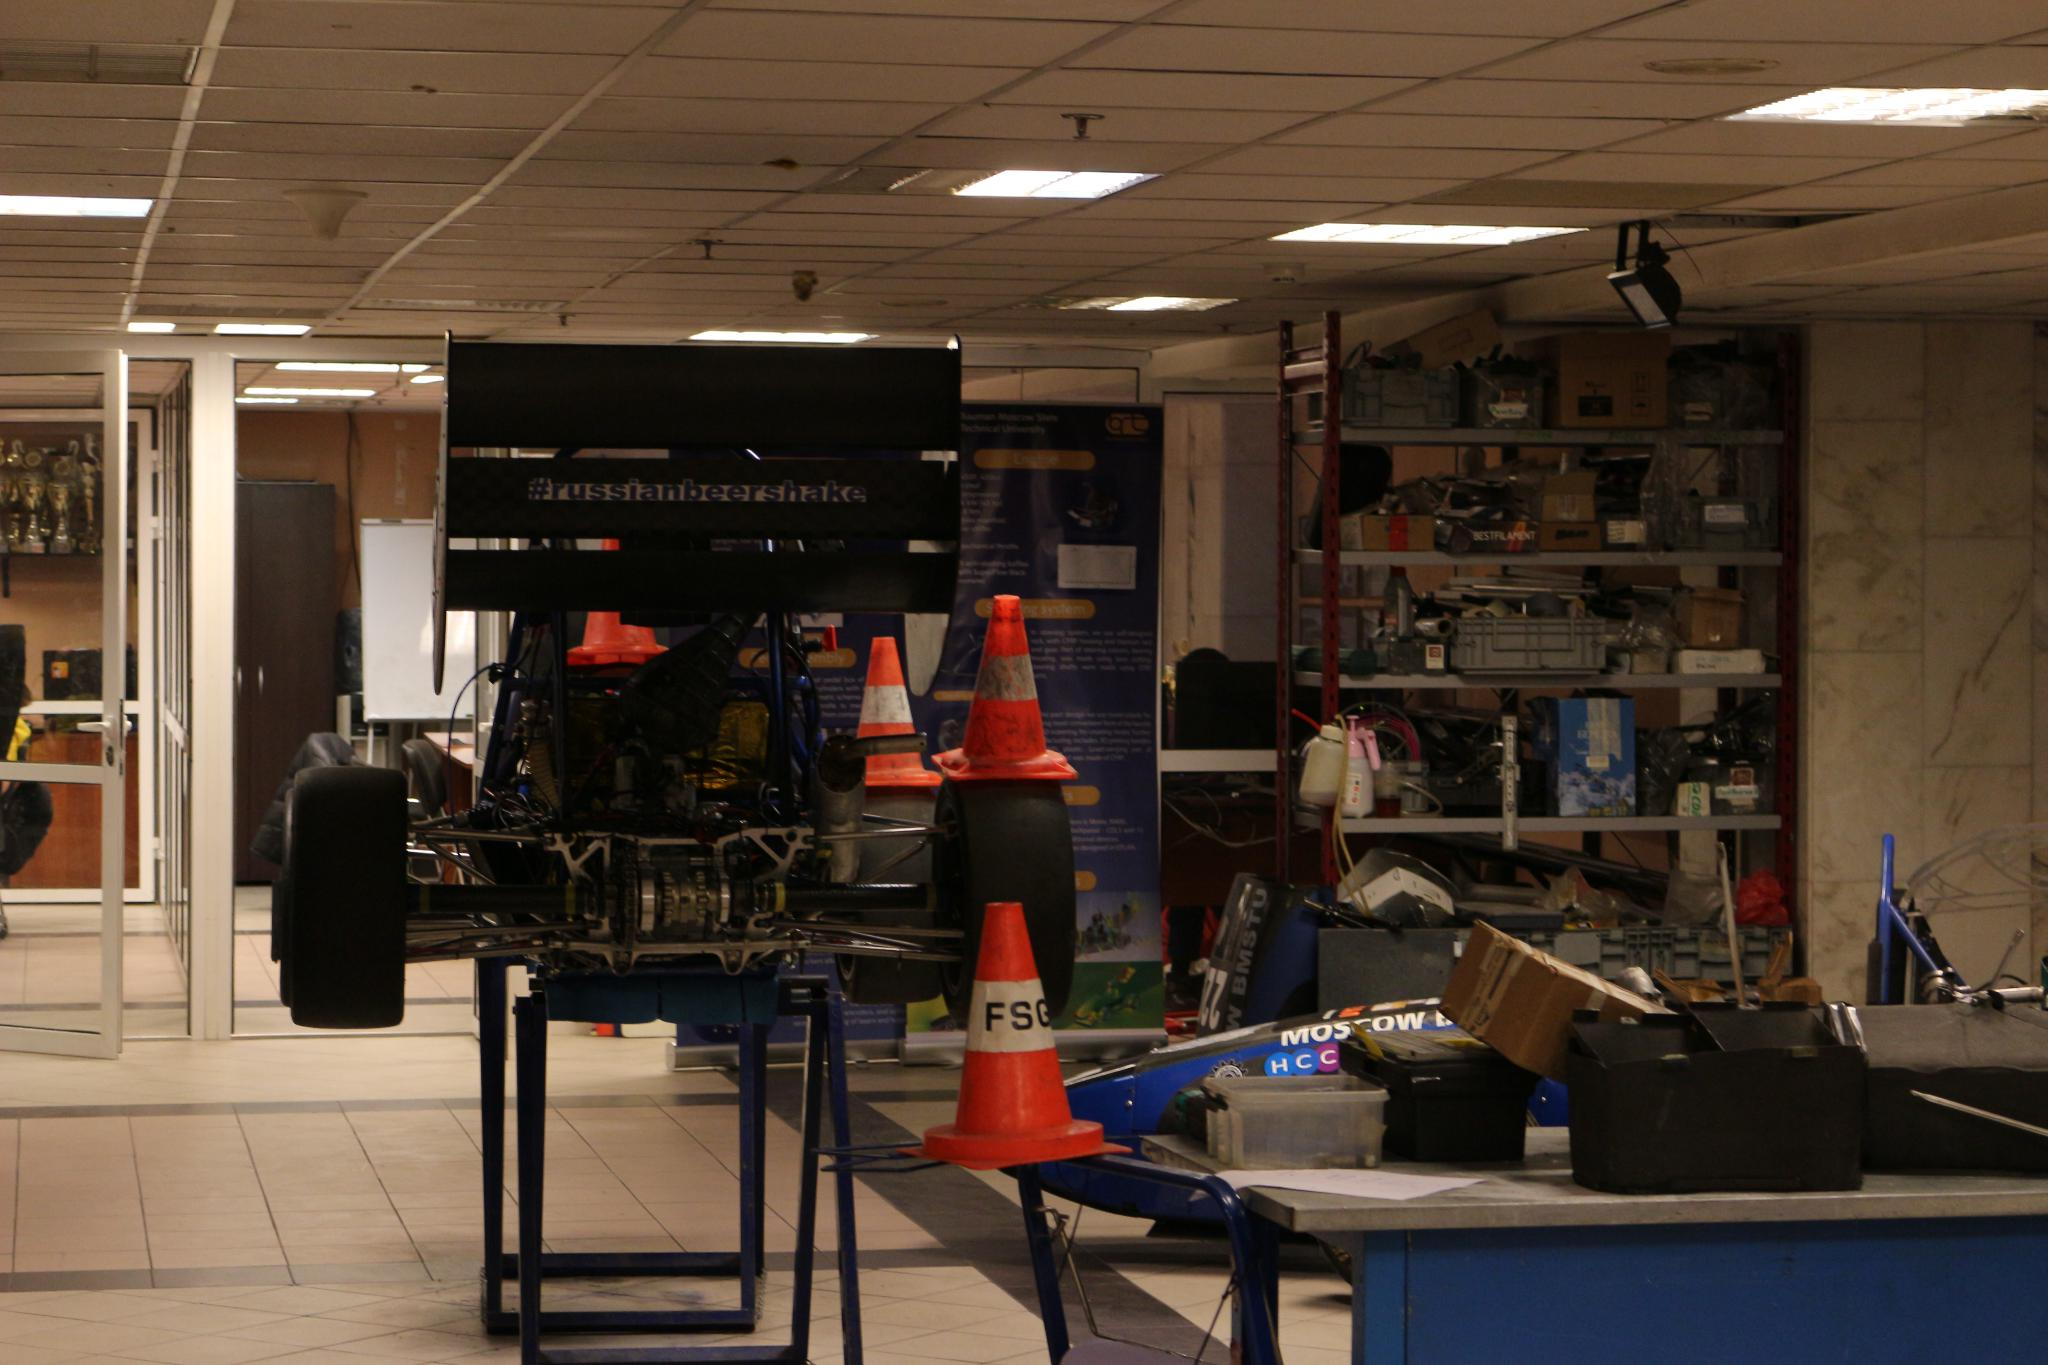Orange_Cone: (923, 882, 1119, 1164), (950, 590, 1080, 782), (839, 625, 943, 788)
